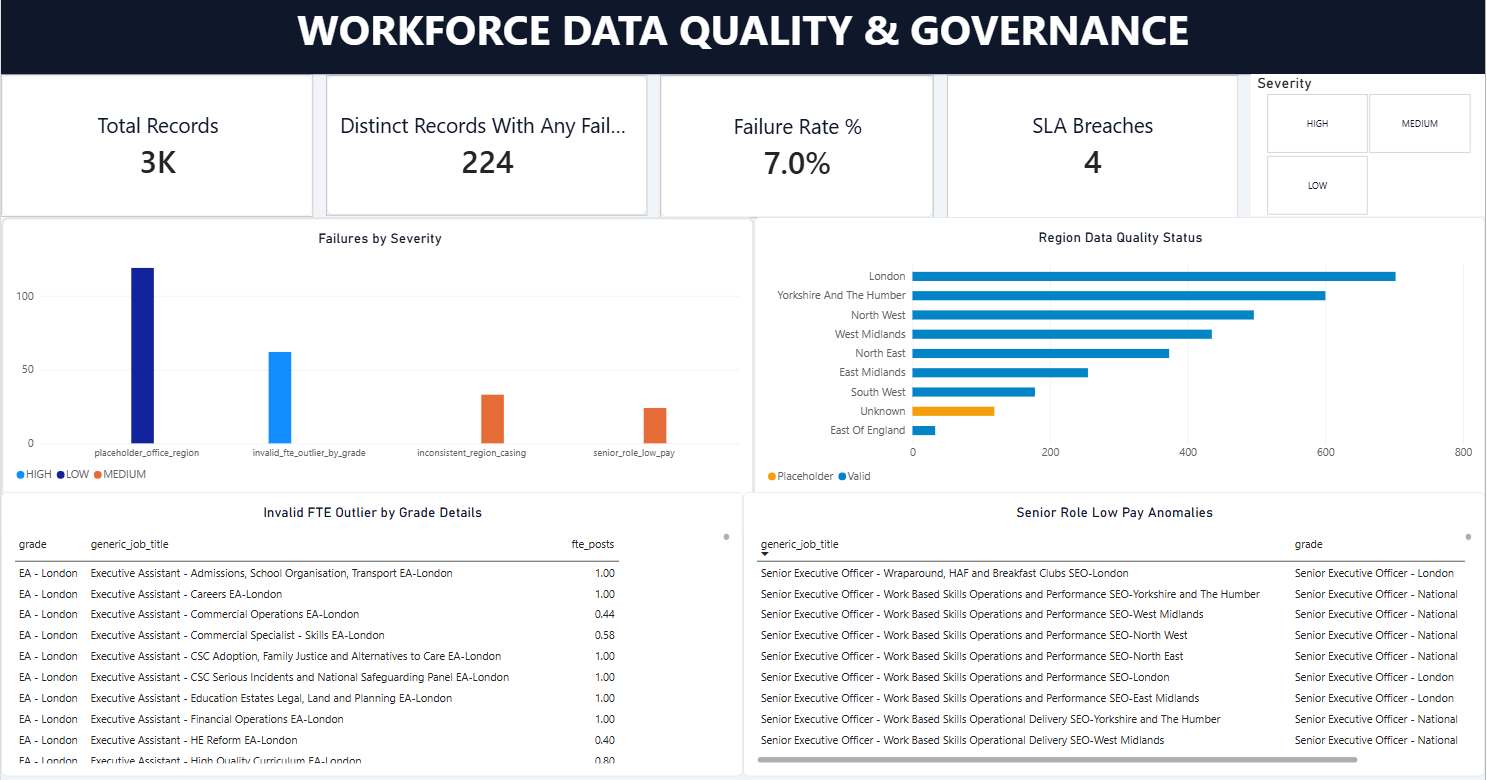

This screenshot's page, from the dashboard's own definition file:
{"tool":"powerbi","page":{"name":"Page 1","canvas":[1920,1080],"ordinal":0},"visuals":[{"type":"cardVisual","fields":{"Data":["_Measures.Total Records"]},"box":[0,95.5,404.9,185.9],"z":0},{"type":"cardVisual","fields":{"Data":["_Measures.Distinct Records With Any Failure"]},"box":[420.9,97.1,416.2,182.6],"z":1000},{"type":"cardVisual","fields":{"Data":["_Measures.Failure Rate %"]},"box":[853.1,97.1,354.7,185.9],"z":2000},{"type":"cardVisual","fields":{"Data":["_Measures.SLA Breaches"]},"box":[1223.8,97.1,377.4,185.9],"z":3000},{"type":"clusteredColumnChart","title":"Failures by Severity","fields":{"Category":["SLAEvaluation.check_name"],"Series":["SLAEvaluation.severity"],"Y":["Sum(SLAEvaluation.failed_rows)"]},"box":[0,281.4,974.8,366.8],"z":4000},{"type":"barChart","title":"Region Data Quality Status","fields":{"Category":["WorkforceClean.office_region"],"Series":["WorkforceClean.region_data_quality"],"Y":["_Measures.Total Records"]},"box":[974.8,281.4,946.3,366.8],"z":5000},{"type":"tableEx","title":"Invalid FTE Outlier by Grade Details","fields":{"Values":["WorkforceClean.grade","WorkforceClean.generic_job_title","WorkforceClean.fte_posts"]},"box":[0,636.6,960,368],"z":6000},{"type":"tableEx","title":"Senior Role Low Pay Anomalies","fields":{"Values":["WorkforceClean.generic_job_title","WorkforceClean.grade","WorkforceClean.payscale_maximum"]},"box":[960,636.6,960,368],"z":7000},{"type":"textbox","box":[0,0,1920.4,95.9],"z":8000},{"type":"slicer","fields":{"Values":["SLAEvaluation.severity"]},"box":[1617.1,95.5,302.9,184.2],"z":8001}]}

Visuals, with their boxes on the page's 1920x1080 design canvas (x1, y1, x2, y2). These are canvas units, not pixel positions in the 1487x780 screenshot, which may show the page scaled, cropped or inside an application window:
cardVisual - _Measures.Total Records: BBox(0, 96, 405, 281)
cardVisual - _Measures.Distinct Records With Any Failure: BBox(421, 97, 837, 280)
cardVisual - _Measures.Failure Rate %: BBox(853, 97, 1208, 283)
cardVisual - _Measures.SLA Breaches: BBox(1224, 97, 1601, 283)
"Failures by Severity" clusteredColumnChart: BBox(0, 281, 975, 648)
"Region Data Quality Status" barChart: BBox(975, 281, 1921, 648)
"Invalid FTE Outlier by Grade Details" tableEx: BBox(0, 637, 960, 1005)
"Senior Role Low Pay Anomalies" tableEx: BBox(960, 637, 1920, 1005)
textbox: BBox(0, 0, 1920, 96)
slicer - SLAEvaluation.severity: BBox(1617, 96, 1920, 280)
